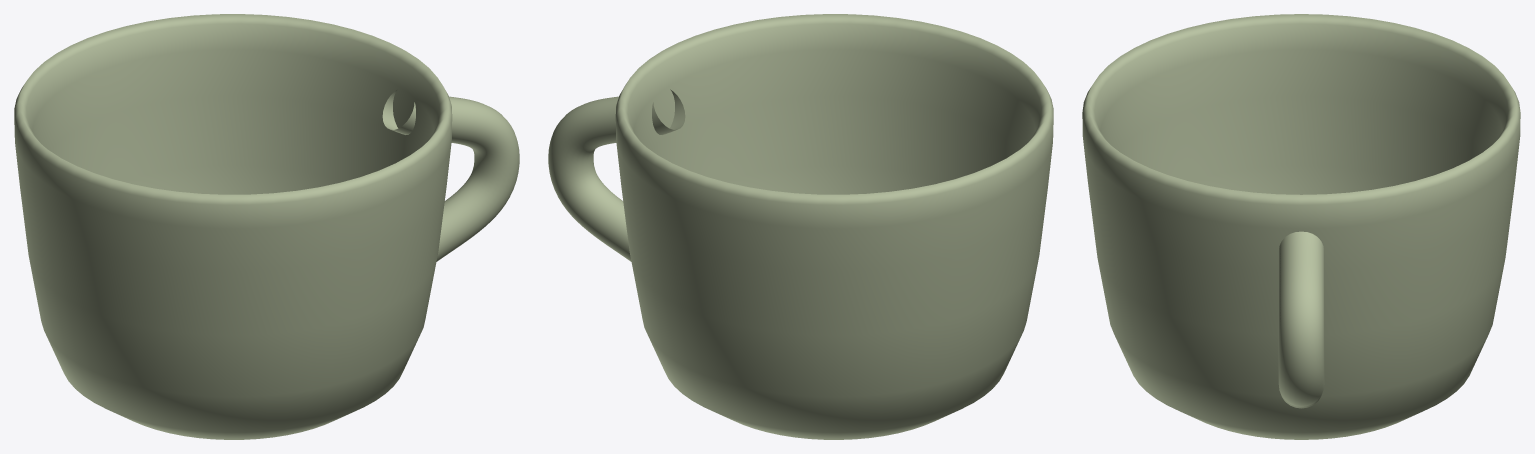
Rendered from taza.glb.
The picture shows the model from 3 angles, left to right: view 1: azimuth 30°, elevation 25°; view 2: azimuth 150°, elevation 25°; view 3: azimuth 270°, elevation 25°; orthographic projection.
Visible parts, largest first — view 1: taza, asaT; view 2: taza, asaT; view 3: taza, asaT.
Part boxes in pixels (x1,y1,x2,y2): taza: (14, 14, 452, 439); asaT: (382, 89, 519, 261); taza: (615, 14, 1053, 439); asaT: (548, 89, 685, 261); taza: (1082, 14, 1520, 439); asaT: (1278, 231, 1324, 408).
Size of the model in its own units: 0.2059 by 0.1194 by 0.1652.
